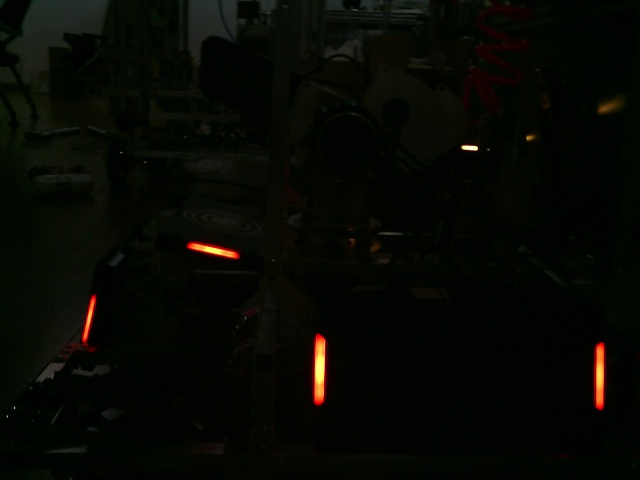lamp: (308, 333, 330, 404), (588, 343, 609, 410), (82, 294, 98, 344)
